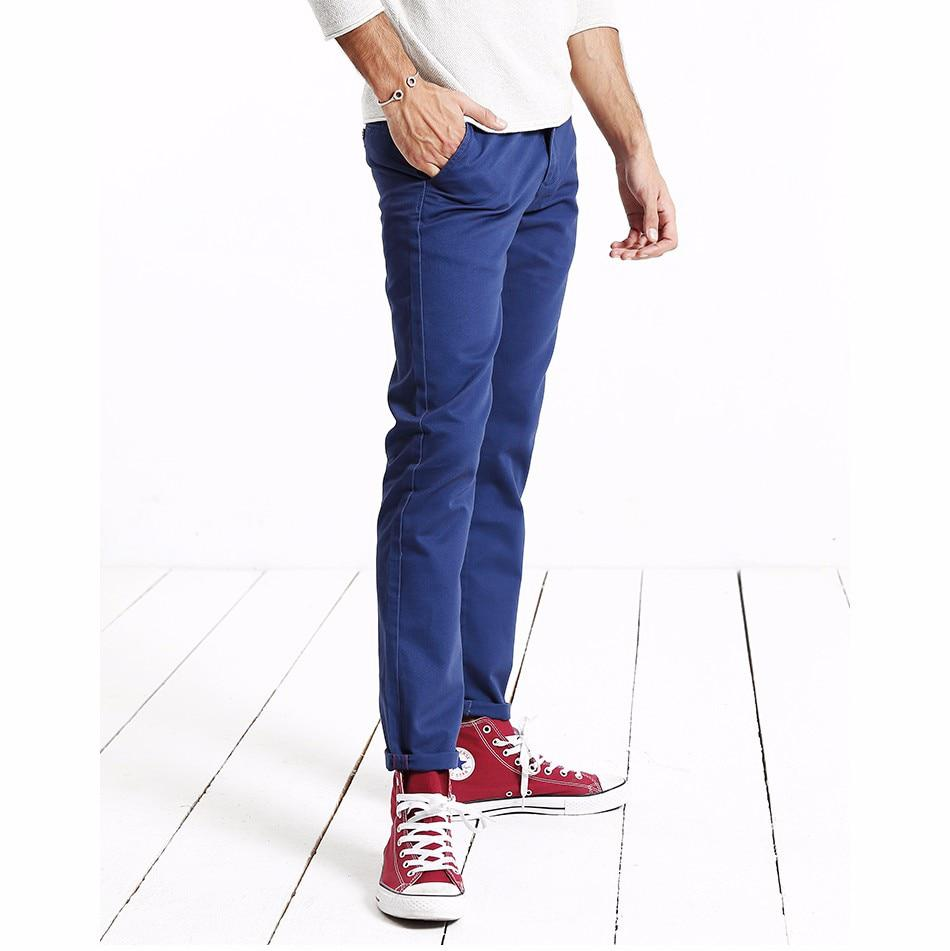pants: (359, 115, 579, 795)
